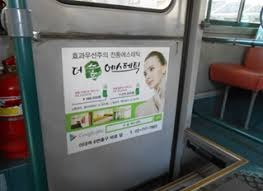in: (19, 1, 197, 180)
